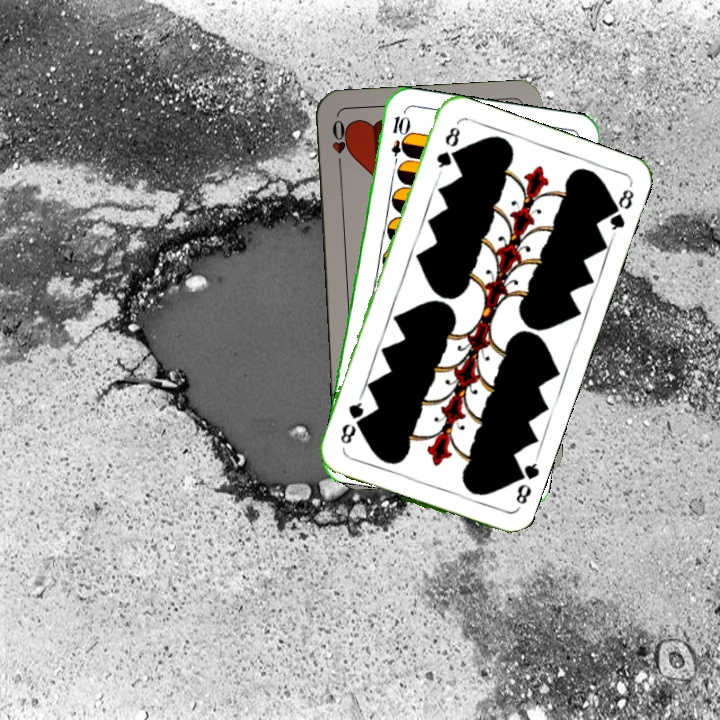E10: (387, 112, 409, 171)
G8: (508, 459, 542, 513), (432, 122, 463, 177)
HO: (328, 116, 351, 174)
